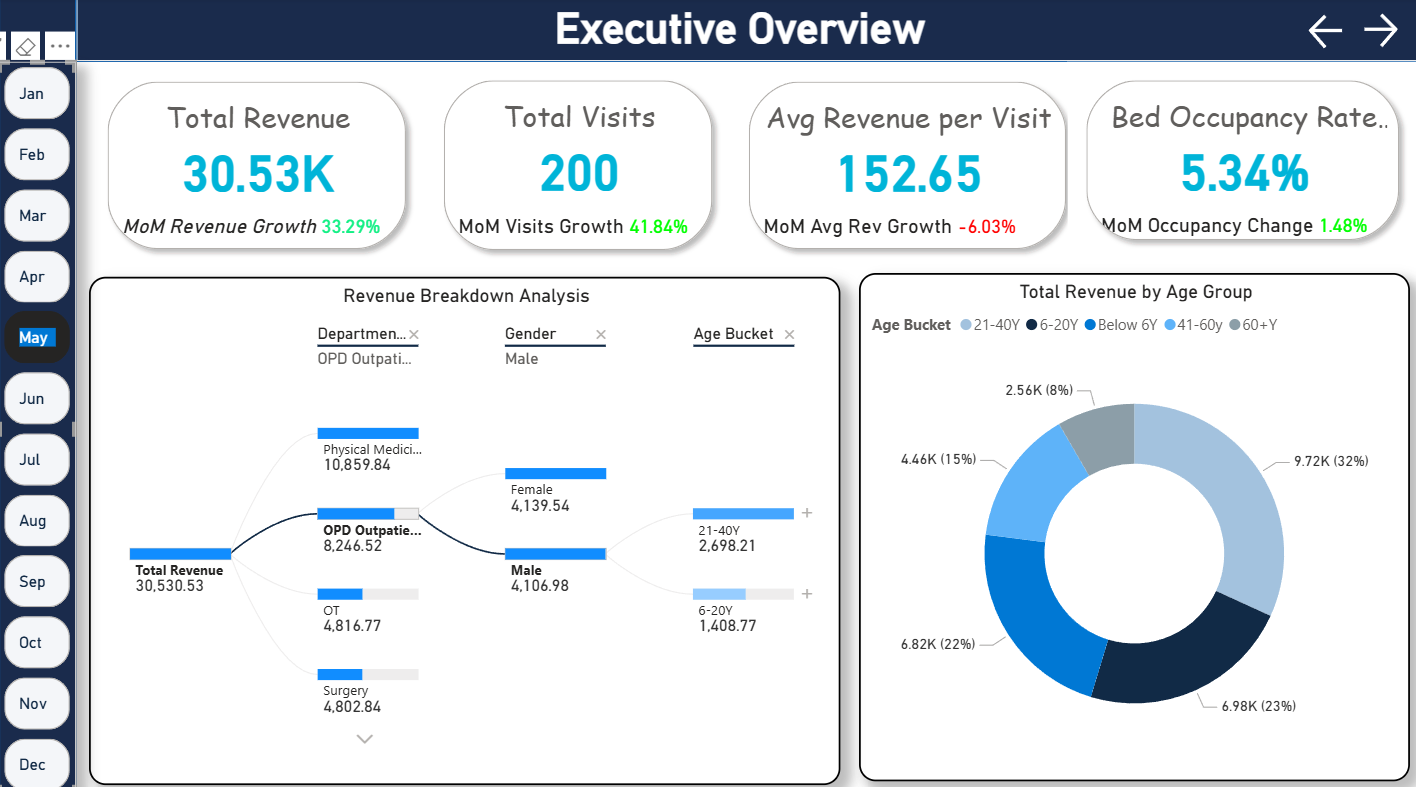

The page's visual inventory and layout, read from the dashboard file:
{"tool":"powerbi","page":{"name":"Overview","canvas":[1280,720],"ordinal":1},"visuals":[{"type":"cardVisual","fields":{"Data":["Dax.Total Revenue"]},"box":[80.7,58.7,303.3,185.9],"z":0},{"type":"cardVisual","fields":{"Data":["Dax.Total Visits"]},"box":[384,57.5,276.4,187.1],"z":1000},{"type":"cardVisual","fields":{"Data":["Dax.Avg Revenue per Visit"]},"box":[659.1,58.7,320.4,185.9],"z":2000},{"type":"shape","box":[69.7,0,1210.6,57.5],"z":3000},{"type":"shape","box":[0,0,69.7,721.5],"z":4000},{"type":"textbox","box":[431.7,0,473.2,57.5],"z":5000},{"type":"advancedSlicerVisual","fields":{"Values":["Calendar.Month_Name"]},"box":[0,57.5,69.7,662.8],"z":6000},{"type":"cardVisual","fields":{"Data":["Dax.Bed Occupancy Rate %"]},"box":[963.6,57.5,316.7,178.5],"z":7000},{"type":"donutChart","title":"Total Revenue by Age Group","fields":{"Category":["Fact_patient.Age Bucket"],"Y":["Dax.Total Revenue"]},"box":[775.3,248.2,496.5,458.6],"z":8000},{"type":"decompositionTreeVisual","title":"Revenue Breakdown Analysis","fields":{"Analyze":["Dax.Total Revenue"],"ExplainBy":["Dep.Department_Name","Fact_patient.Gender","Fact_patient.Age Bucket","Fact_patient.Patient type"]},"box":[80.7,251.9,677.4,458.6],"z":9000},{"type":"actionButton","box":[1225.3,8.6,46.5,40.4],"z":10000},{"type":"actionButton","box":[1176.4,9.8,48.9,40.4],"z":11000}]}

Visuals, with their boxes on the page's 1280x720 design canvas (x1, y1, x2, y2). These are canvas units, not pixel positions in the 1416x787 screenshot, which may show the page scaled, cropped or inside an application window:
cardVisual - Dax.Total Revenue: bbox=(81, 59, 384, 245)
cardVisual - Dax.Total Visits: bbox=(384, 58, 660, 245)
cardVisual - Dax.Avg Revenue per Visit: bbox=(659, 59, 980, 245)
shape: bbox=(70, 0, 1280, 58)
shape: bbox=(0, 0, 70, 722)
textbox: bbox=(432, 0, 905, 58)
advancedSlicerVisual - Calendar.Month_Name: bbox=(0, 58, 70, 720)
cardVisual - Dax.Bed Occupancy Rate %: bbox=(964, 58, 1280, 236)
"Total Revenue by Age Group" donutChart: bbox=(775, 248, 1272, 707)
"Revenue Breakdown Analysis" decompositionTreeVisual: bbox=(81, 252, 758, 710)
actionButton: bbox=(1225, 9, 1272, 49)
actionButton: bbox=(1176, 10, 1225, 50)
